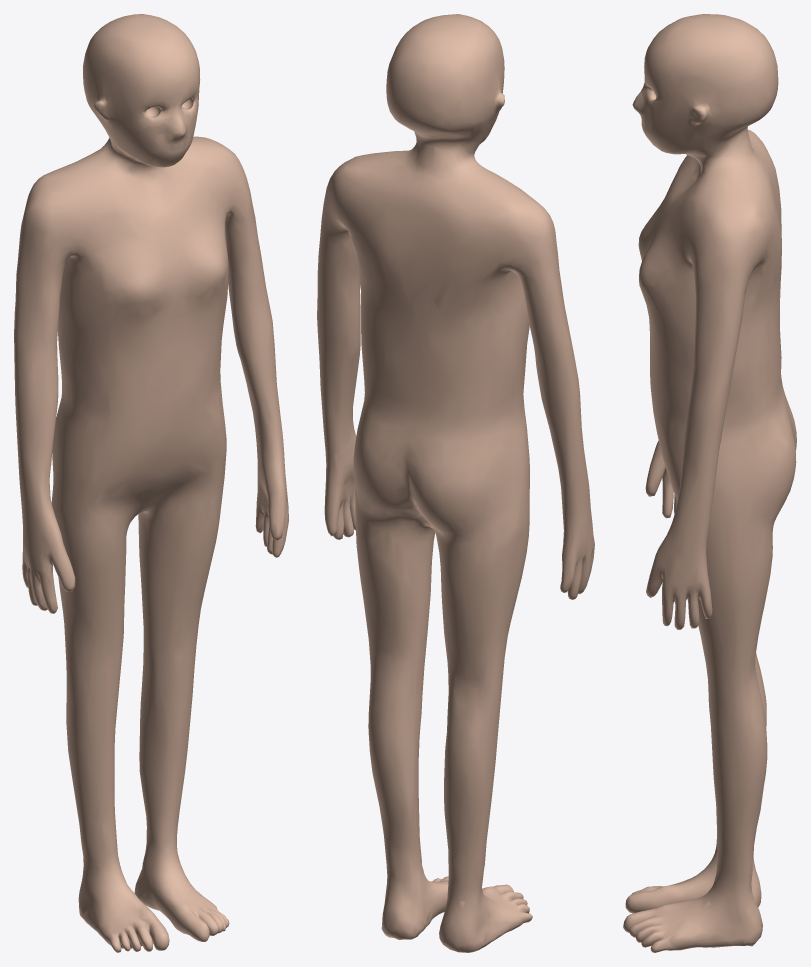
Rendered from pediatric_child_10y_female.surface.LOD1.glb.
3 renders of one model, left to right at view 1: azimuth 30°, elevation 25°; view 2: azimuth 150°, elevation 25°; view 3: azimuth 270°, elevation 25°, orthographic.
Visible parts, largest first — view 1: PEDIATRIC.CHILD_10Y.FEMALE.SURFACE.SKIN; view 2: PEDIATRIC.CHILD_10Y.FEMALE.SURFACE.SKIN; view 3: PEDIATRIC.CHILD_10Y.FEMALE.SURFACE.SKIN.
Part boxes in pixels (x1,y1,x2,y2): PEDIATRIC.CHILD_10Y.FEMALE.SURFACE.SKIN: [14, 14, 288, 952]; PEDIATRIC.CHILD_10Y.FEMALE.SURFACE.SKIN: [317, 14, 594, 952]; PEDIATRIC.CHILD_10Y.FEMALE.SURFACE.SKIN: [623, 14, 796, 952].
Size of the model in its own units: 0.4126 by 1.38 by 0.2406.
